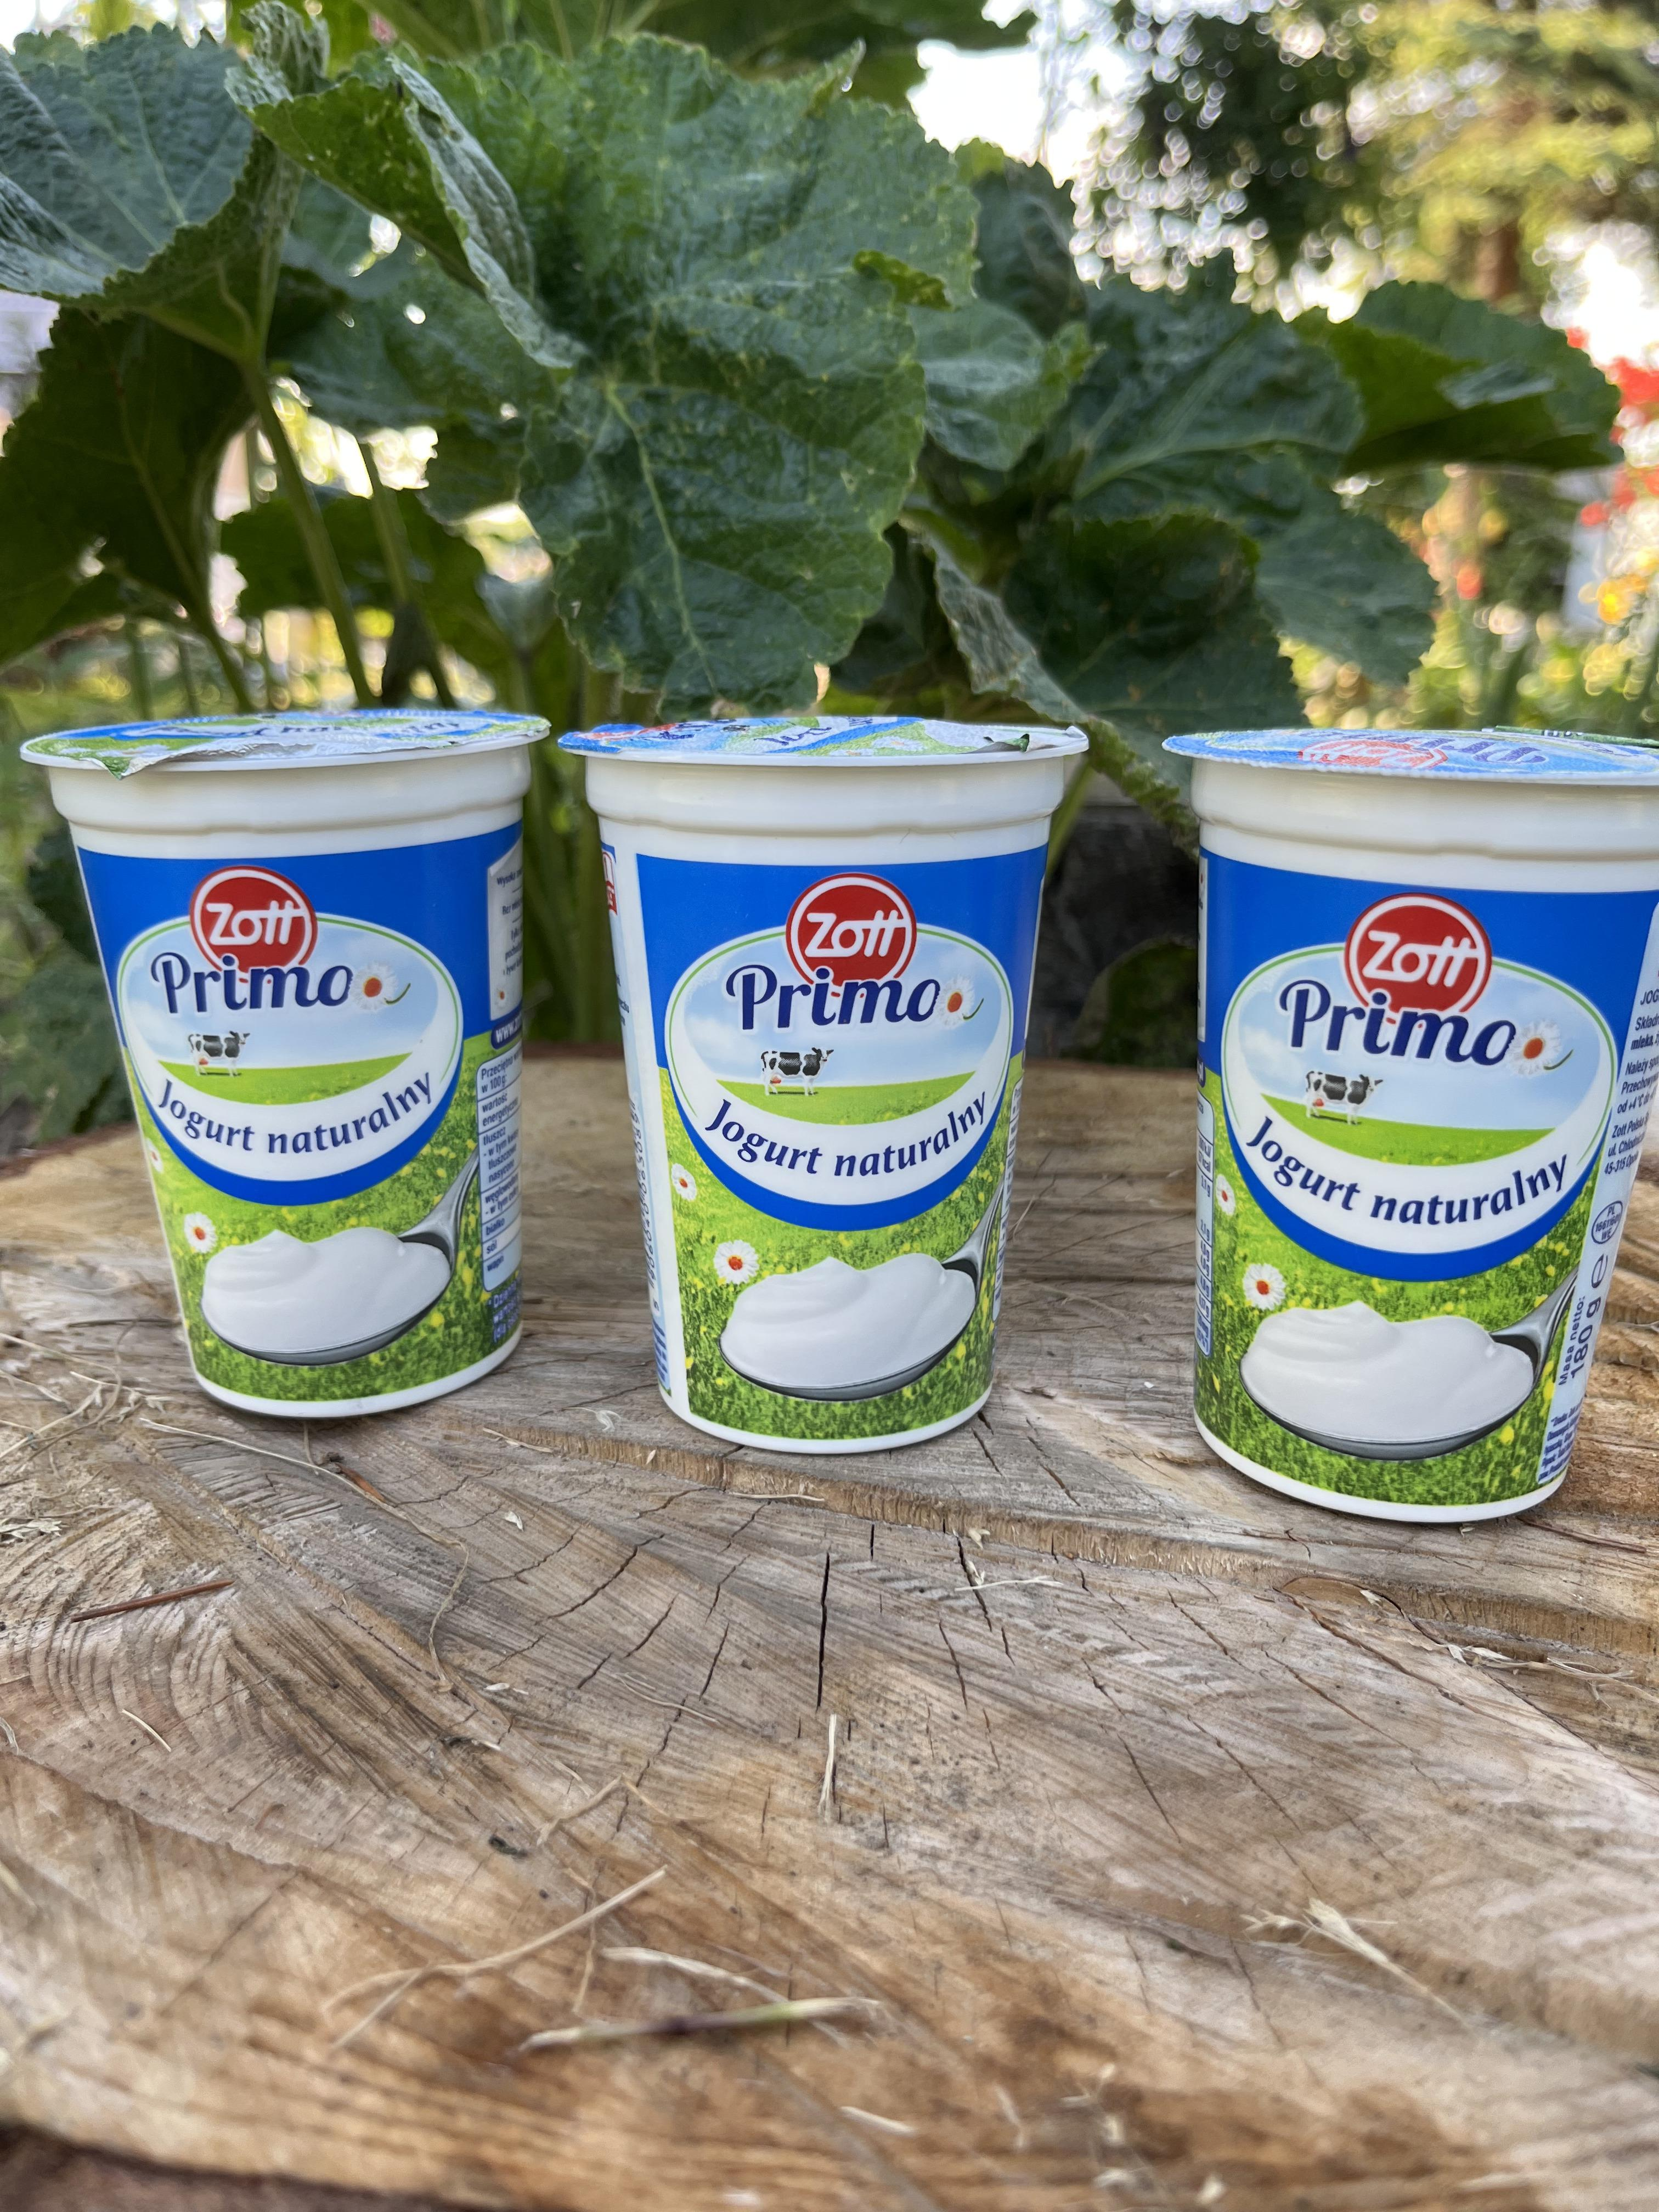Yogurt: (1204, 716, 1624, 1508), (606, 707, 1063, 1428), (108, 723, 556, 1400)
